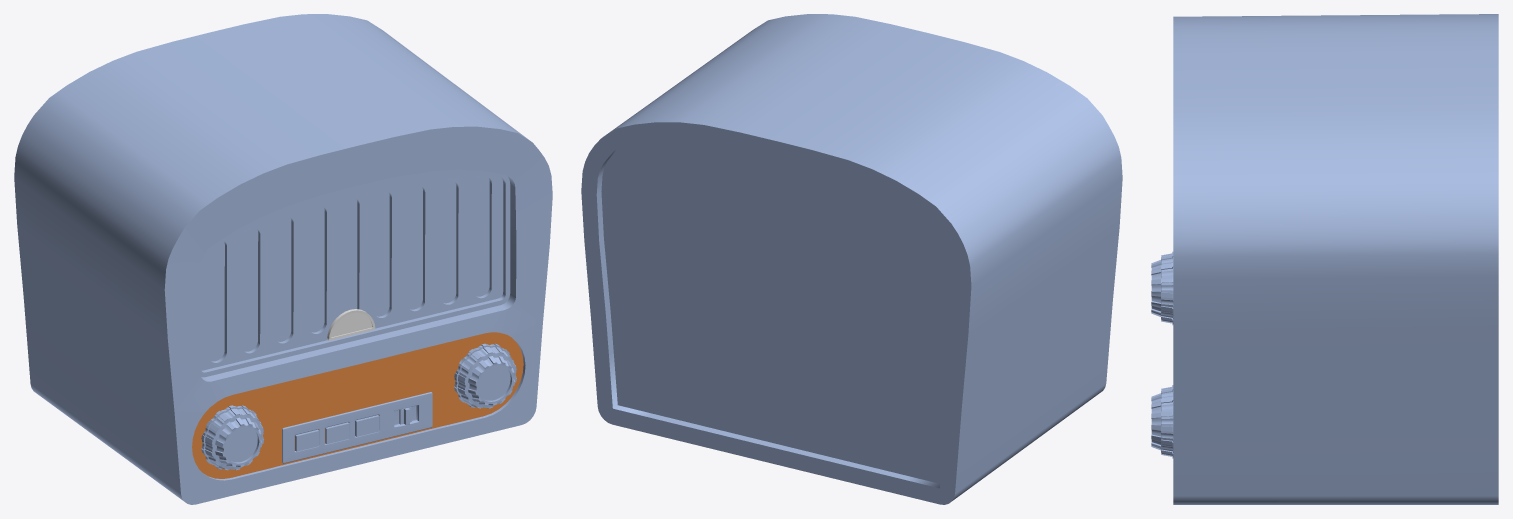
File: Old Radio.fbx
The picture shows the model from 3 angles, left to right: view 1: azimuth 30°, elevation 25°; view 2: azimuth 150°, elevation 25°; view 3: azimuth 270°, elevation 25°; orthographic projection. The views are drawn at different scales.
Parts seen in each view (by area): view 1: Old radio_low, Old radio_low.001, Old radio_low.009, Old radio_low.005, Old radio_low.010, Old radio_low.002, Old radio_low.003, Old radio_low.011; view 2: Old radio_low; view 3: Old radio_low, Old radio_low.010.
Boxes of the visible parts, x1,y1,x2,y2 form: Old radio_low: (14, 14, 552, 504); Old radio_low.001: (200, 171, 503, 370); Old radio_low.009: (209, 176, 489, 361); Old radio_low.005: (192, 332, 523, 478); Old radio_low.010: (201, 343, 516, 470); Old radio_low.002: (282, 392, 432, 463); Old radio_low.003: (200, 169, 510, 377); Old radio_low.011: (327, 309, 375, 340); Old radio_low: (581, 14, 1122, 504); Old radio_low: (1173, 14, 1498, 504); Old radio_low.010: (1151, 251, 1173, 458).
Size of the model in its own units: 26.02 by 20.62 by 18.66.
